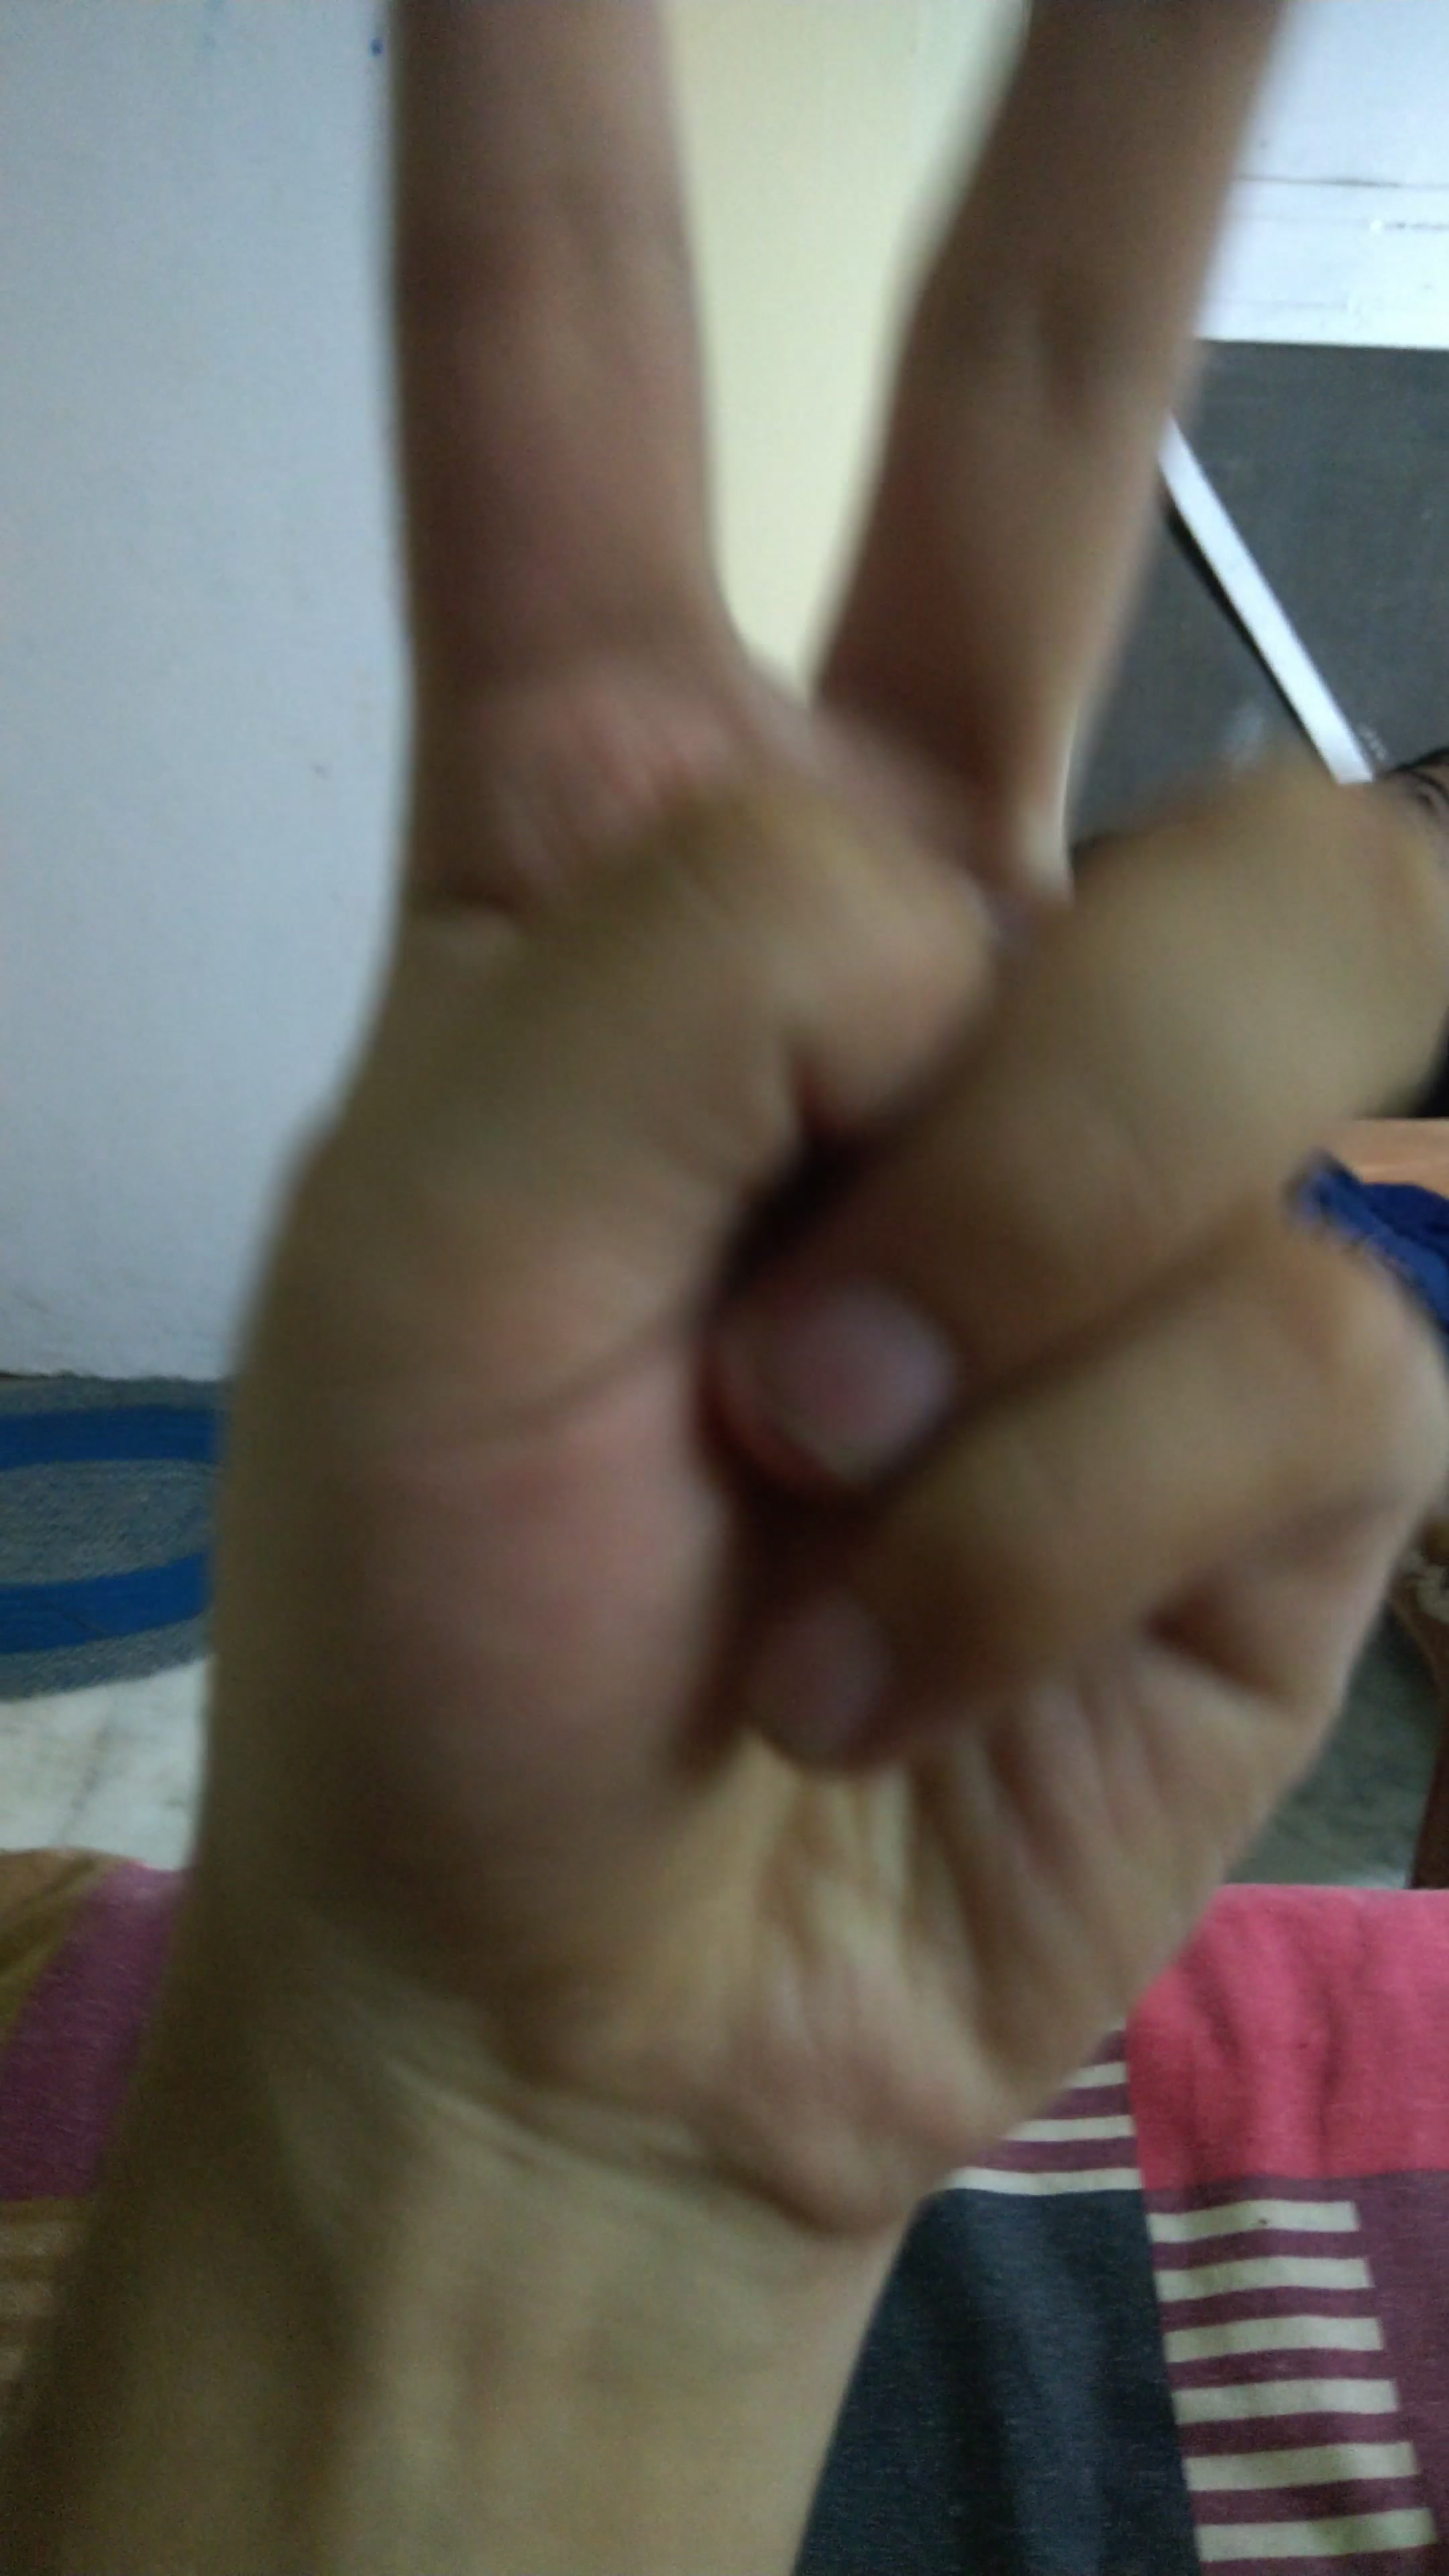hand: (157, 7, 1449, 2323)
